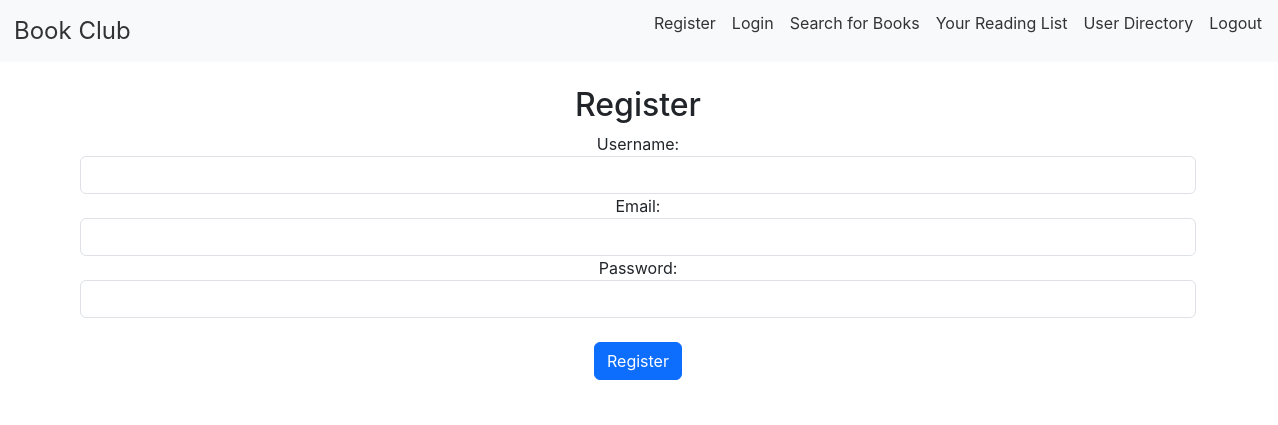
it: Registration Form › should display error message when fields are empty
Click the submit button at (638,361), box [594,342,682,380]
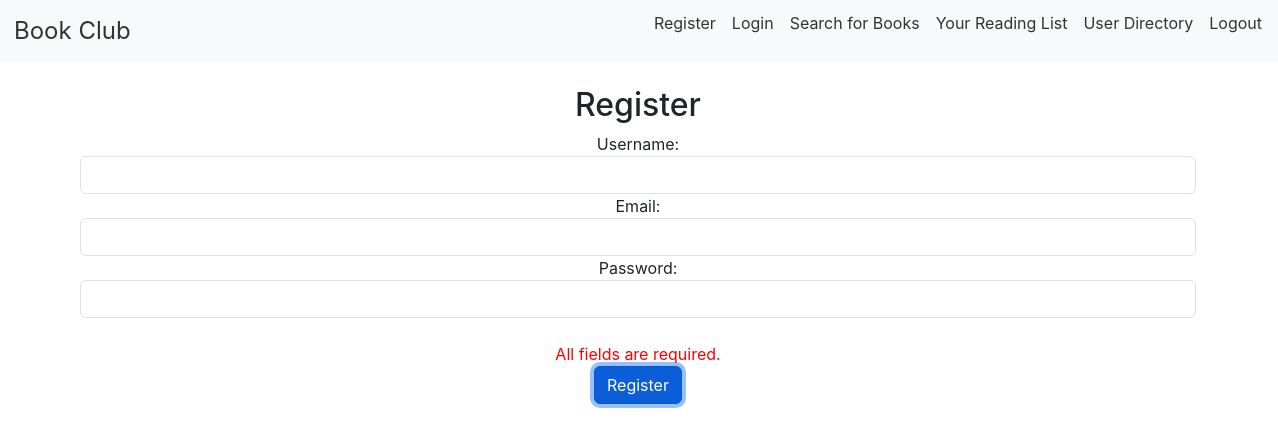
Check: the text with class "error-message" reads "All fields are required.", box [555,344,720,364]
